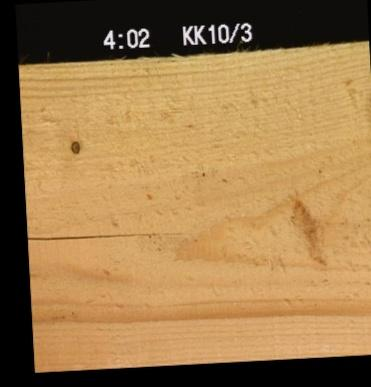dry_knot: (68, 136, 80, 154)
split: (27, 228, 200, 239)
